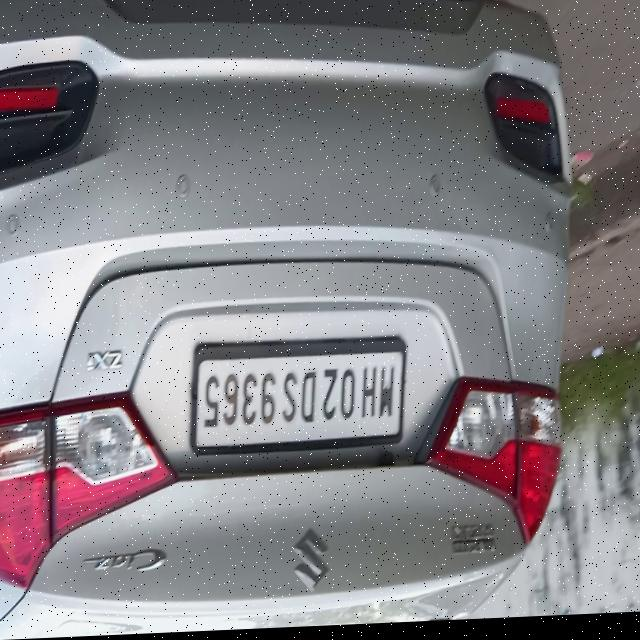plate: (192, 340, 407, 460)
